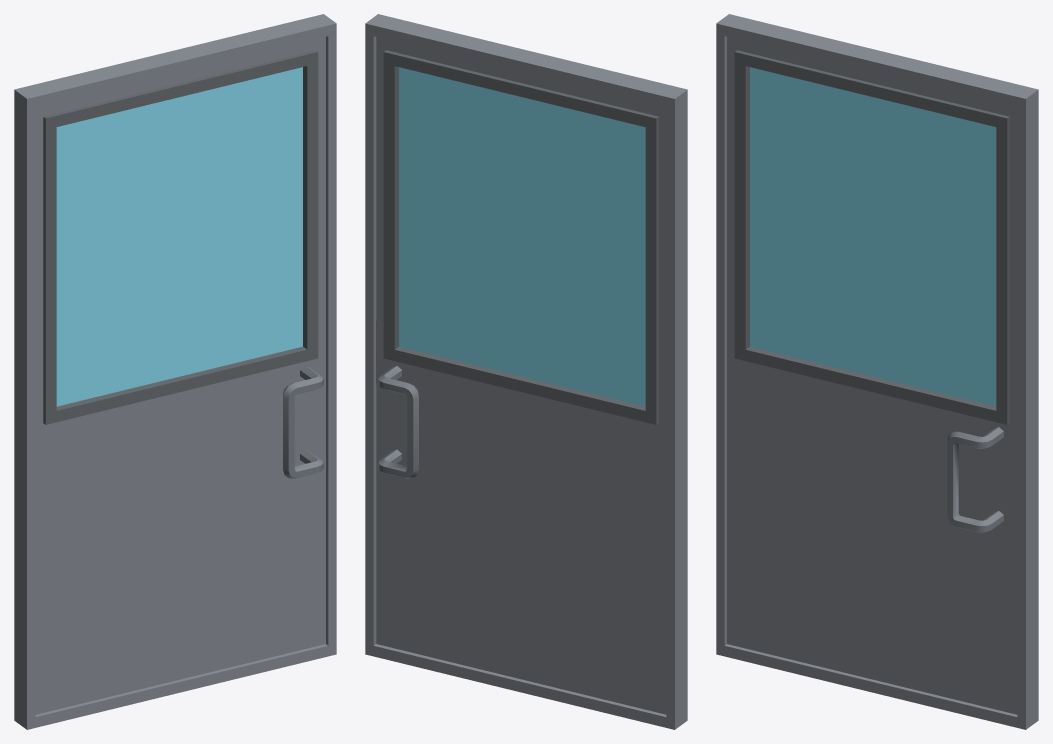
File: SM_Buildings_Car_Service_Door.fbx
3 renders of one model, left to right at view 1: azimuth 30°, elevation 25°; view 2: azimuth 150°, elevation 25°; view 3: azimuth 330°, elevation 25°, orthographic.
Visible parts, largest first — view 1: SM_Buildings_Car_Service_Door; view 2: SM_Buildings_Car_Service_Door; view 3: SM_Buildings_Car_Service_Door.
Part boxes in pixels (<box>): SM_Buildings_Car_Service_Door: <box>14,14,336,729</box>; SM_Buildings_Car_Service_Door: <box>365,14,687,729</box>; SM_Buildings_Car_Service_Door: <box>716,14,1038,729</box>.
Size of the model in its own units: 1.22 by 2.38 by 0.2975.
